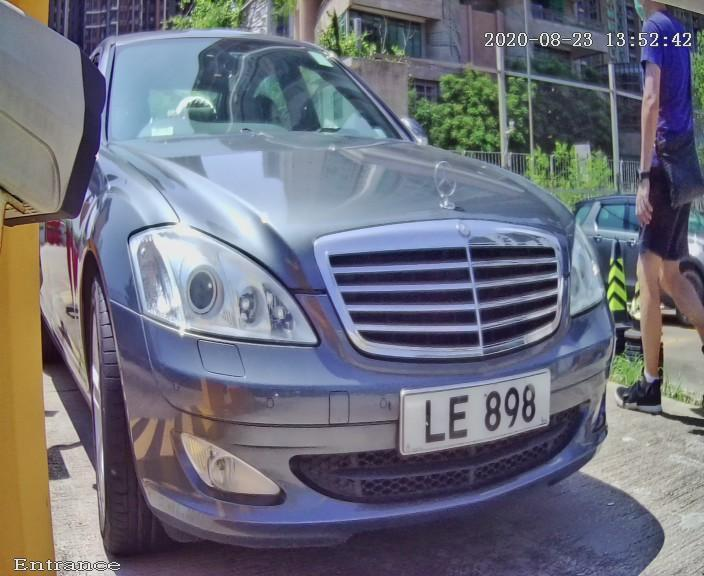Car: (13, 3, 673, 576)
License Plate: (379, 340, 582, 481)
